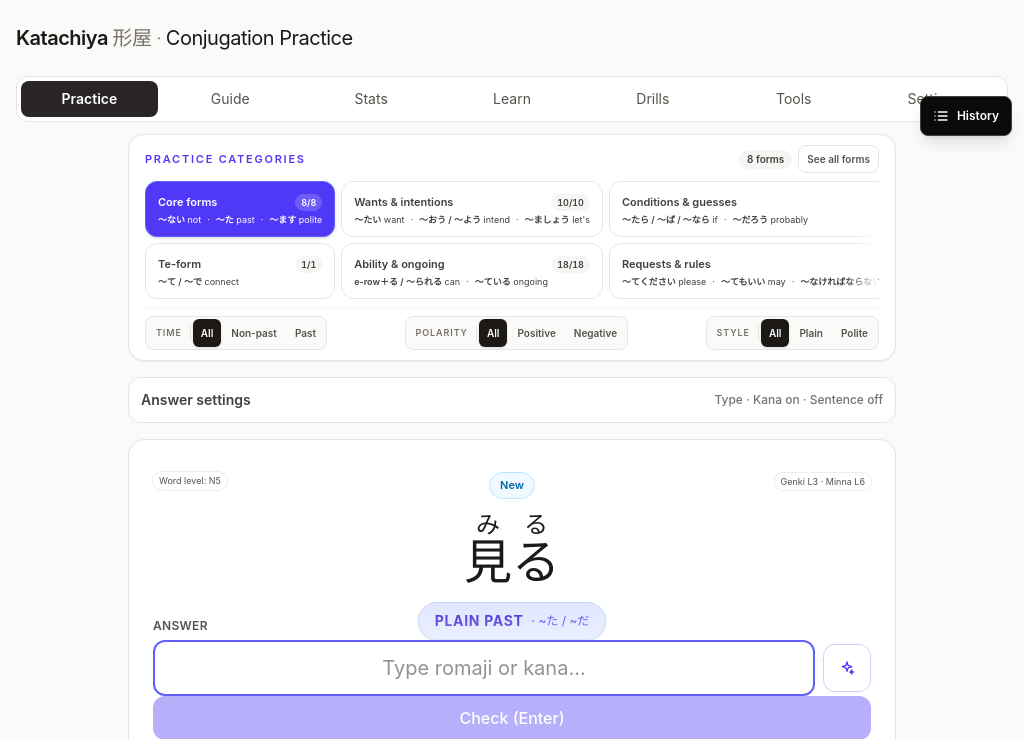
App shell › teaches Volitional and Wanting as separate lessons
Expected: the field labelled "Answer" is shown, [153,640,815,696]
Click the tab "Learn". click: click(512, 99)
box: [444,81,580,117]
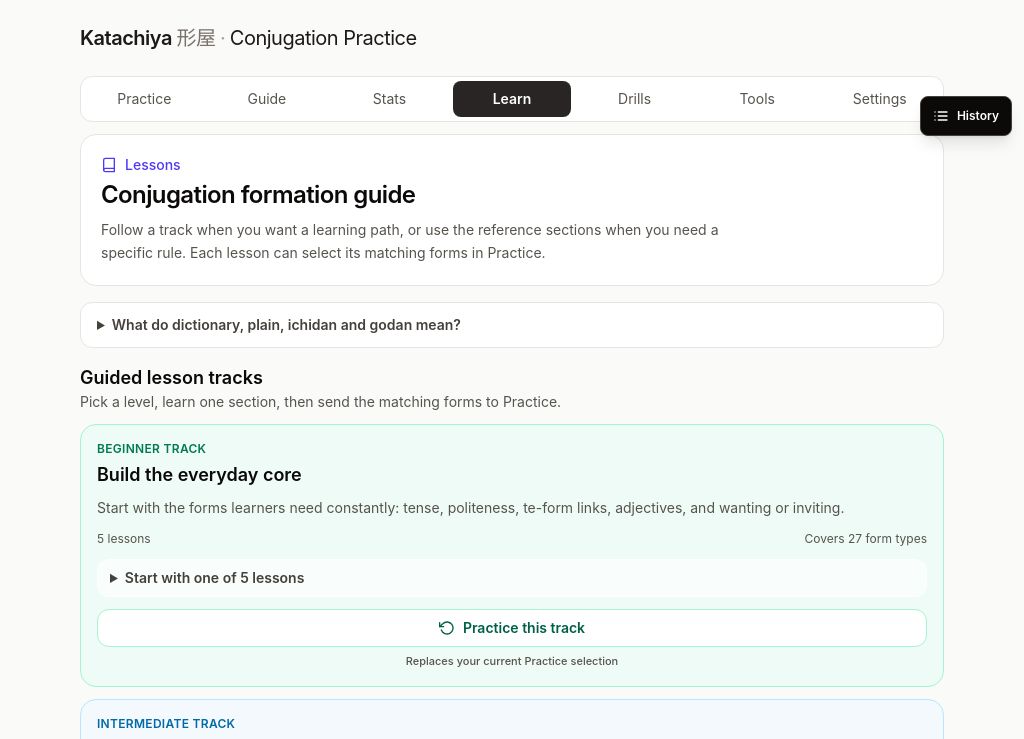
Now the heading "Guided lesson tracks" is shown, box [80,366,263,388]
